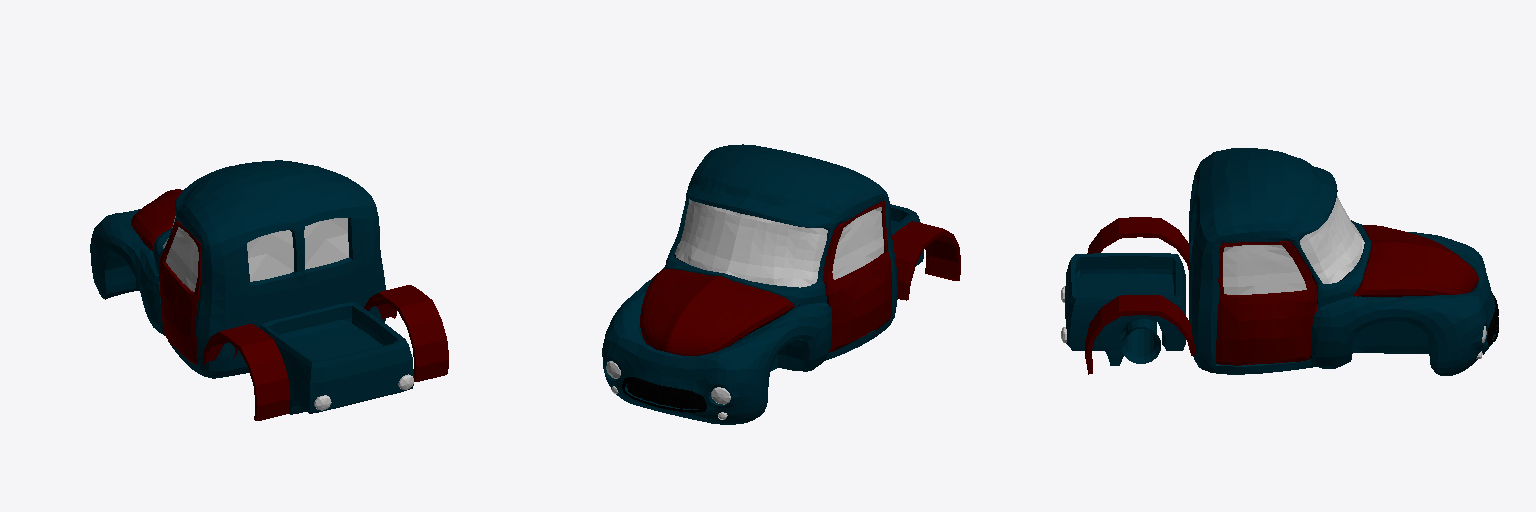
The model's file is a-volvo-duet-no-Wheels.obj.
3 renders of one model, left to right at view 1: azimuth 30°, elevation 25°; view 2: azimuth 150°, elevation 25°; view 3: azimuth 270°, elevation 25°, orthographic.
Visible parts, largest first — view 1: Car_Body_Plane.009, Mud_Guard_Circle.002, Back_Glass_Plane.012, Door_R_Plane.007, Glass_R_Plane.002; view 2: Car_Body_Plane.009, Wind_sheild_Plane.003, Door_R_Plane.007, Mud_Guard_Circle.002, Glass_R_Plane.002; view 3: Car_Body_Plane.009, Doors_L_Plane.014, Mud_Guard_Circle.002, Glass_L_Plane.011, Wind_sheild_Plane.003, Cylinder.
Part boxes in pixels (x1,y1,x2,y2): Car_Body_Plane.009: (90, 160, 413, 414); Mud_Guard_Circle.002: (203, 285, 448, 420); Back_Glass_Plane.012: (247, 218, 348, 281); Door_R_Plane.007: (159, 221, 201, 365); Glass_R_Plane.002: (166, 227, 198, 291); Car_Body_Plane.009: (602, 144, 923, 424); Wind_sheild_Plane.003: (675, 199, 827, 287); Door_R_Plane.007: (823, 200, 891, 352); Mud_Guard_Circle.002: (892, 221, 960, 300); Glass_R_Plane.002: (832, 207, 883, 279); Car_Body_Plane.009: (1065, 148, 1498, 375); Doors_L_Plane.014: (1216, 241, 1317, 365); Mud_Guard_Circle.002: (1085, 217, 1195, 374); Glass_L_Plane.011: (1223, 245, 1306, 294); Wind_sheild_Plane.003: (1300, 196, 1364, 283); Cylinder: (1121, 319, 1160, 363).
Bounding box in the file's own units: 2.49 × 2.19 × 4.92.